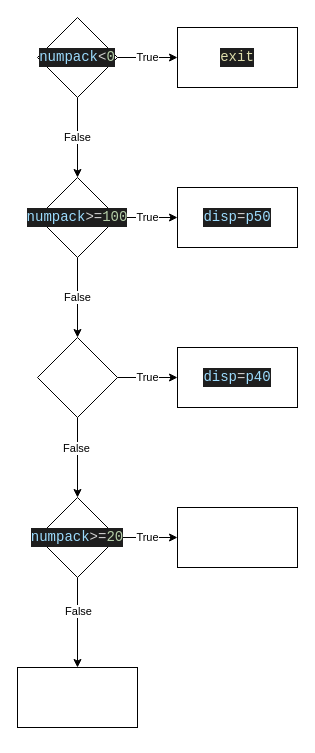
The diagram is 315 pixels wide and 753 high, and some of its shapes have lost their labels. Each missing label, with the centre of its shape:
( numpack >= 50: (x=77, y=377)
disp = p20: (x=77, y=697)
disp = p30: (x=237, y=537)
